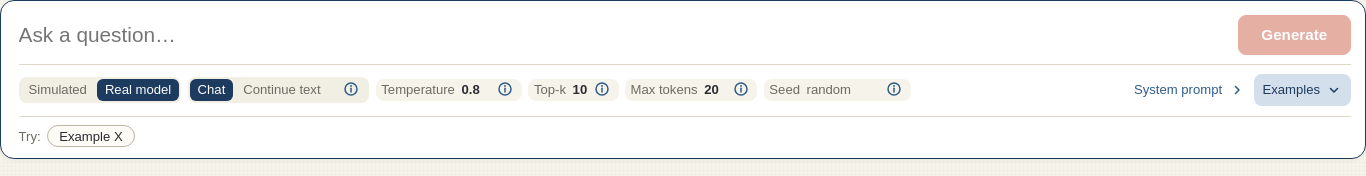
Test case: the system toggle is absent for Continue text
Click the button with test id "format-text": (282, 90) [235, 79, 329, 101]
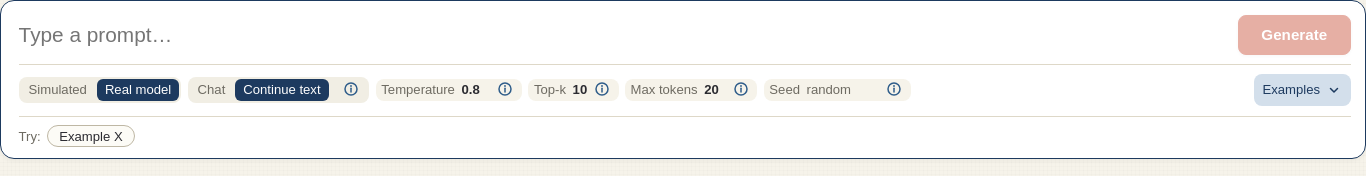
Check: the button with test id "toggle-system" is gone
